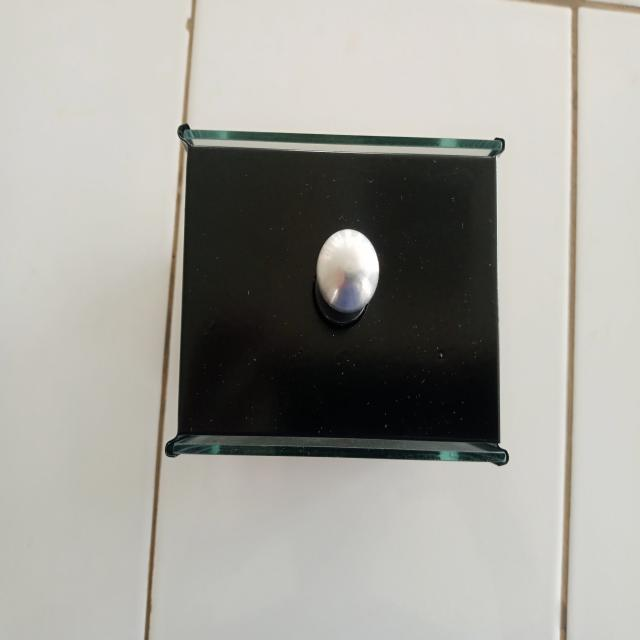Electroscope: (175, 113, 515, 481)
